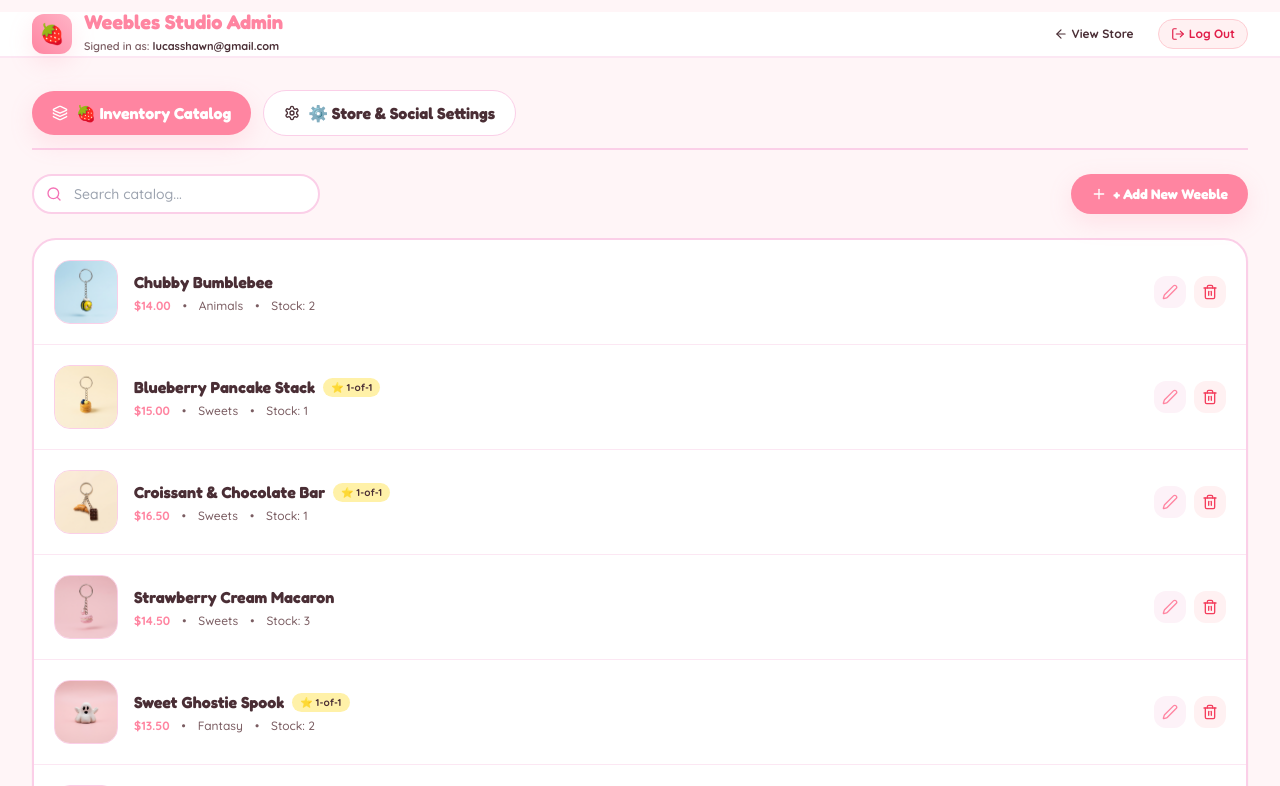
AdminPortal › switches between Inventory and Settings tabs
The image size is (1280, 786).
Note: Click Settings tab
Click the button "⚙️ Store & Social Settings": x=390, y=113 [263, 90, 516, 136]
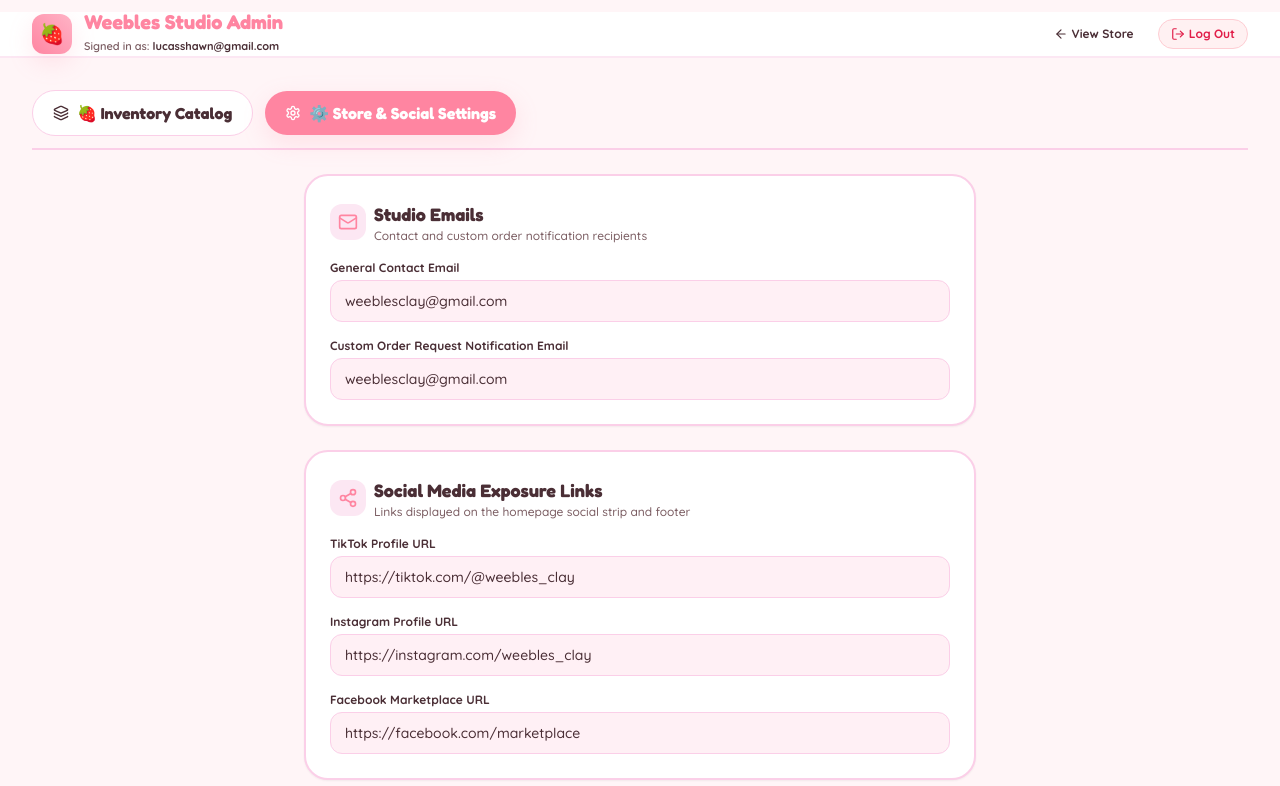
Expected: the heading "Studio Emails" is shown, [374, 203, 484, 225]
Expected: the button "+ Add New Weeble" is gone
Note: Click Inventory tab back
Click the button "🍓 Inventory Catalog": x=143, y=113 [32, 90, 253, 136]
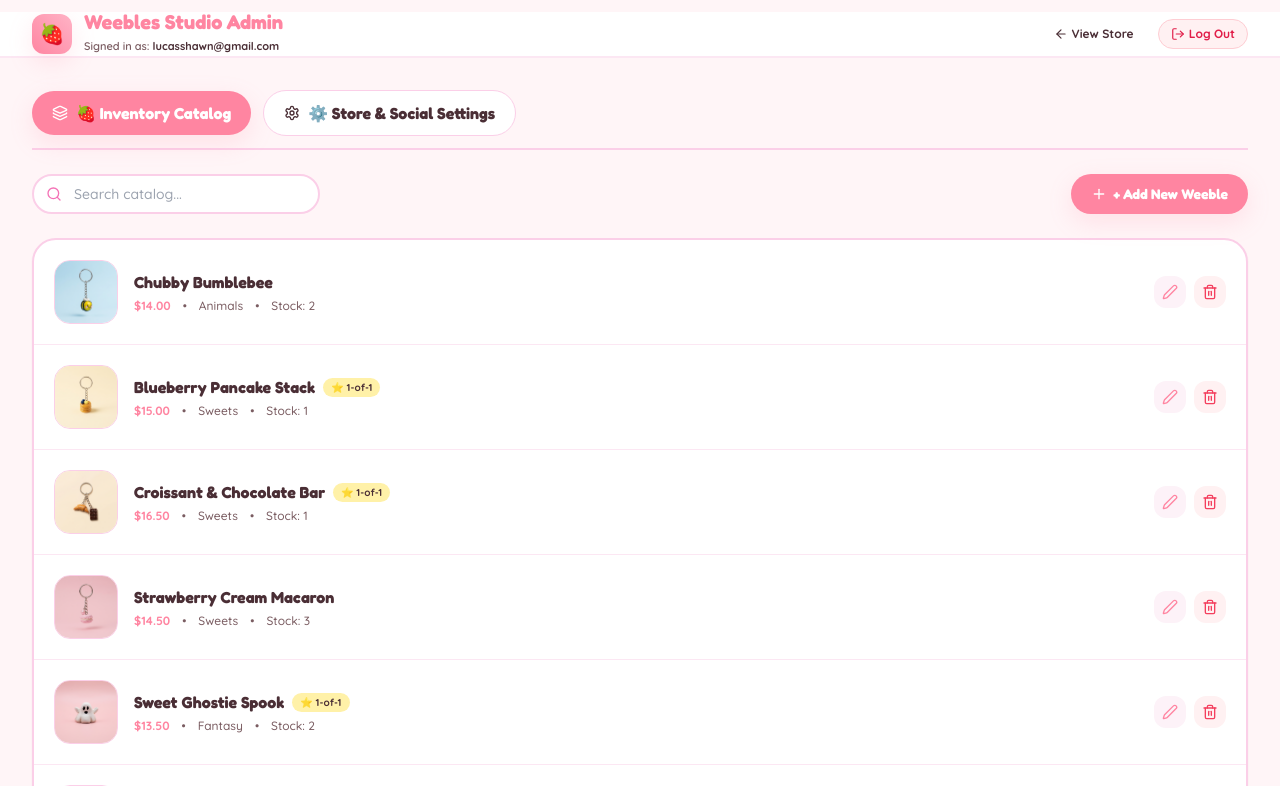
Expected: the button "+ Add New Weeble" is shown, [1071, 174, 1248, 214]
